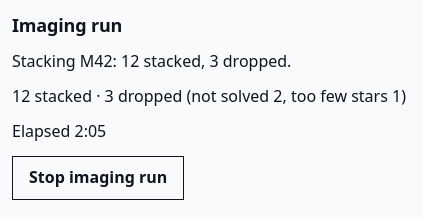
Scenario: US9-S2: a run that is on › reads the exact message, counts and elapsed time, and stops on the second tap
Later steps or results of the test are not shown.
Expected: the message reads "Stacking M42: 12 stacked, 3 dropped.", x1=12 y1=50 x2=291 y2=72
Click the button "Stop imaging run". click: click(98, 178)
box: x1=12 y1=156 x2=184 y2=200
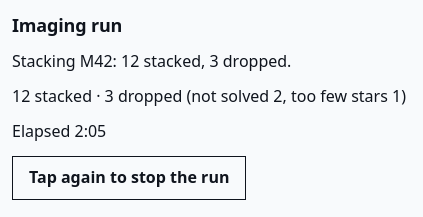
Result: the button "Tap again to stop the run" is shown at x1=12 y1=156 x2=246 y2=200
